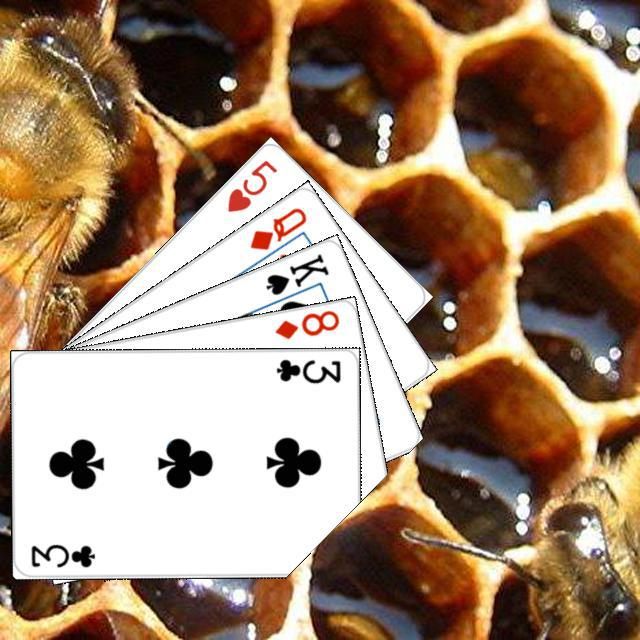3c: (271, 354, 342, 386), (26, 539, 97, 569)
5h: (222, 155, 279, 215)
8d: (270, 305, 341, 341)
Ks: (260, 249, 331, 298)
Qd: (244, 202, 309, 252)
